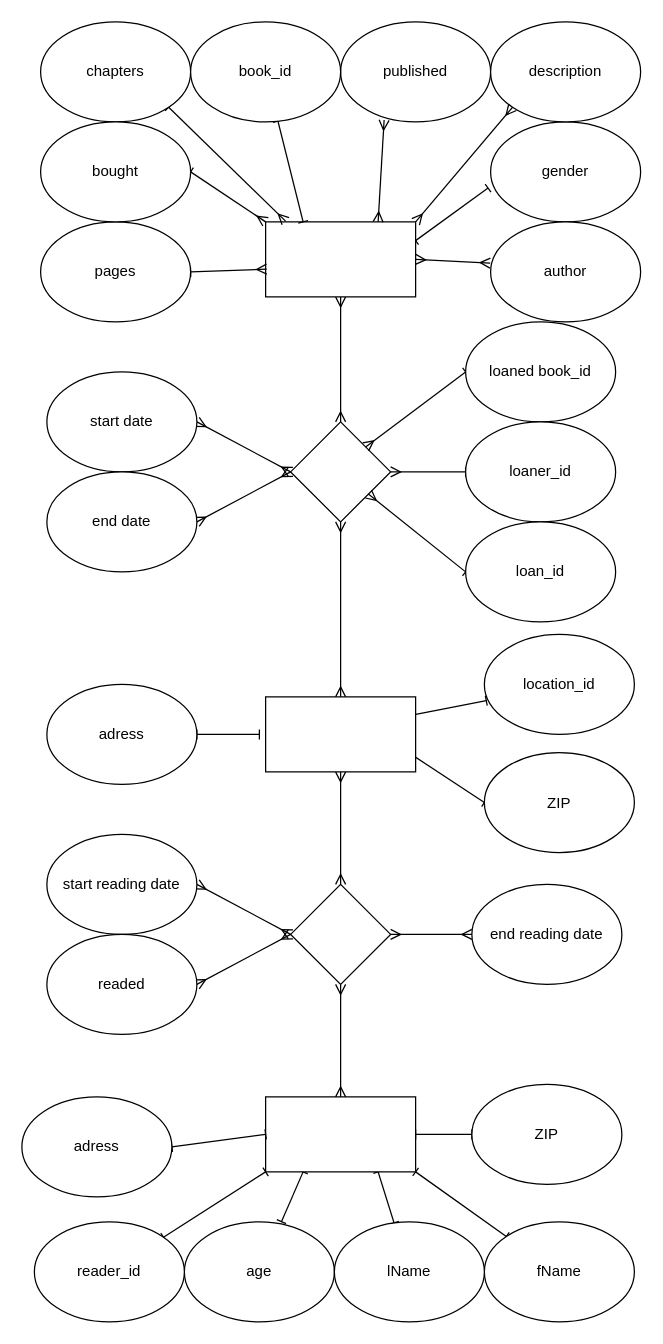
The diagram is 663 pixels wide and 1344 high, and some of its shapes have lost their labels. Here are the shapes that lost their labels. From the top down, the centre of each, then its label:
At point (340, 259): "books".
At point (340, 471): "loan".
At point (340, 734): "location".
At point (340, 933): "read".
At point (340, 1134): "reader".
